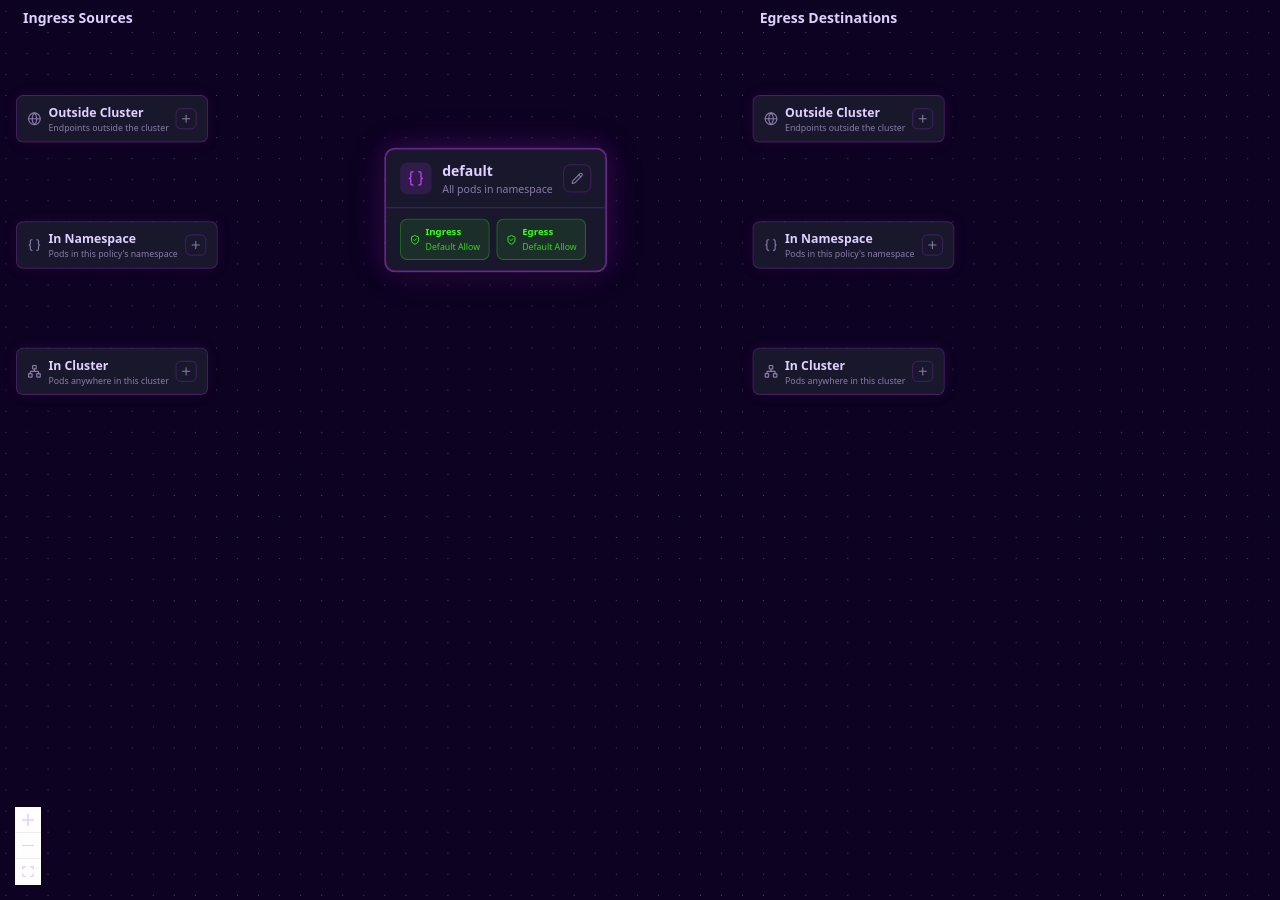
Test: adding a rule › opens a dialog instead of expanding the card
What coordinates should you click on to do the following:
click the button named "New Ingress rule (Outside Cluster)"
I would click on:
 (186, 119)
Its box is [176,108,197,129].
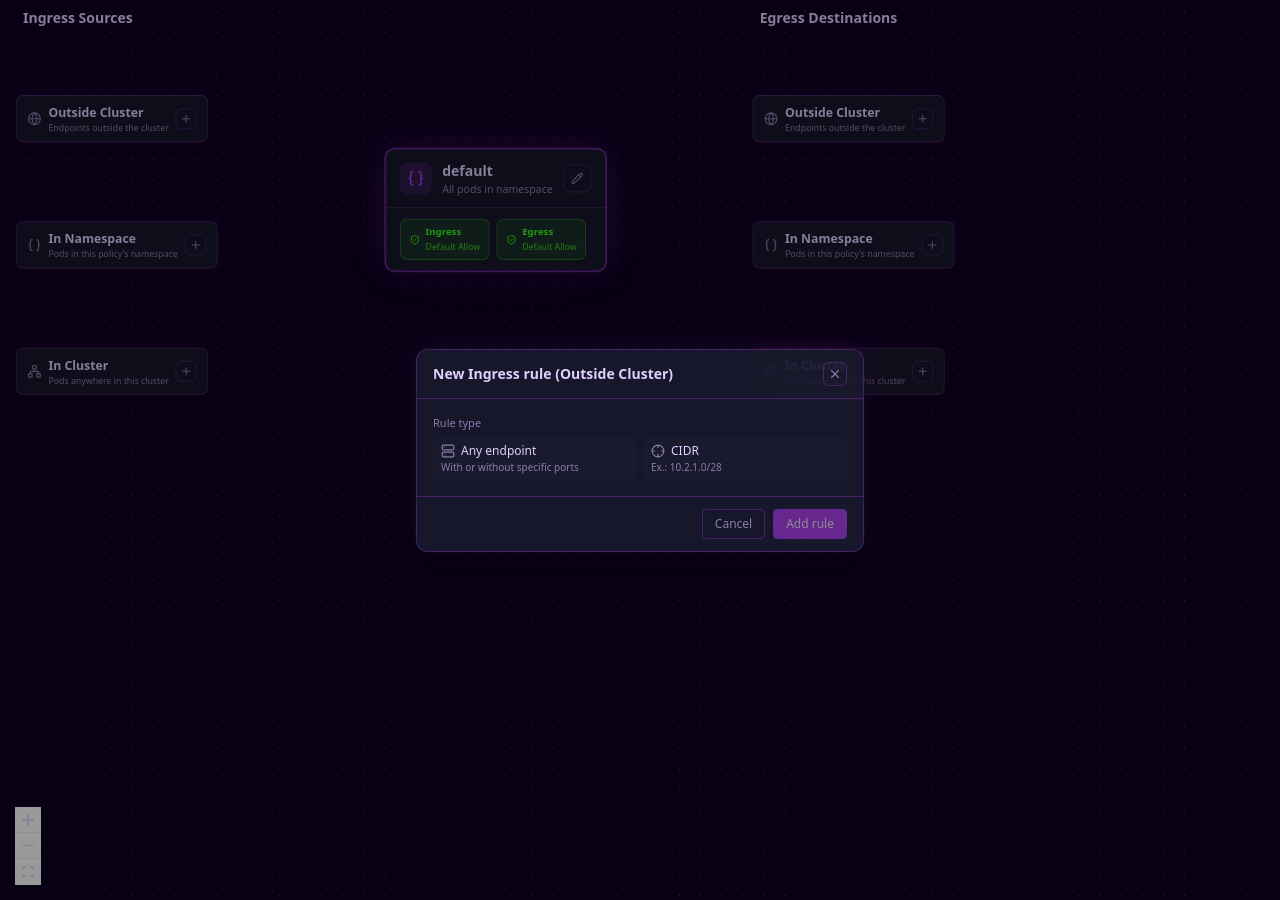
expect the dialog is shown: met, box [416,348,864,552]
expect the text "Rule type" is shown: met, box [433,414,481,430]
expect the text "CIDR" is shown: met, box [671,443,699,459]
